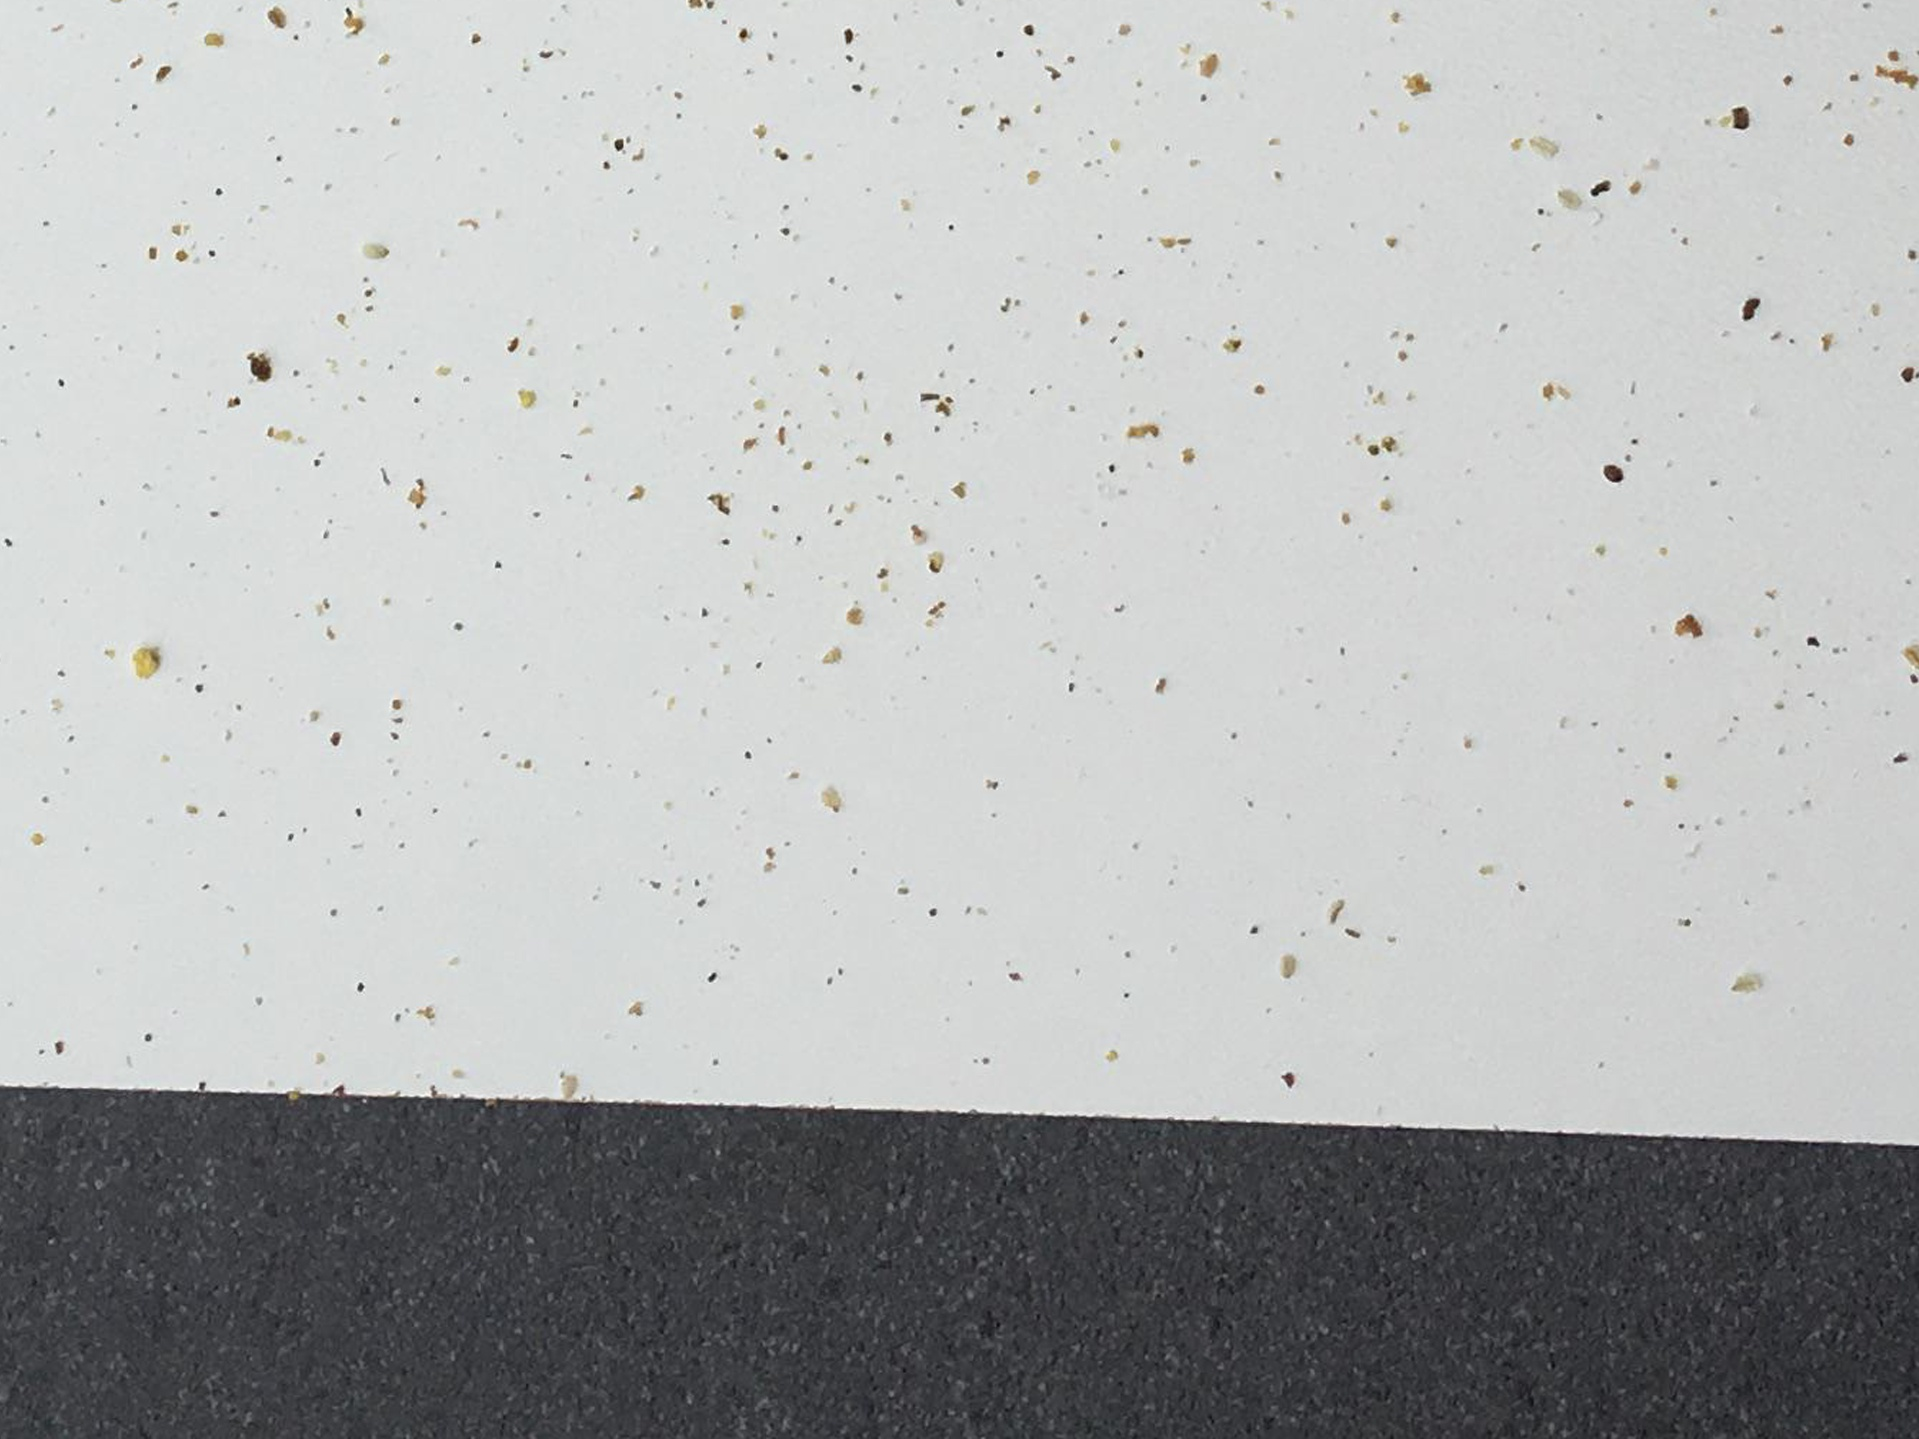Varroa: (1593, 455, 1635, 497)
